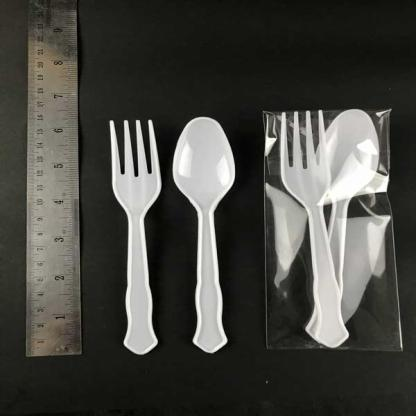Others: (107, 118, 231, 354), (276, 109, 384, 349)
